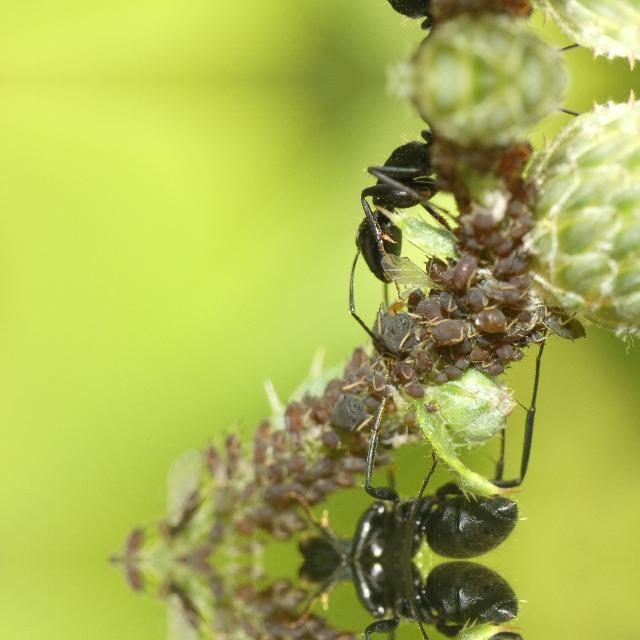Camponotus: (328, 96, 614, 296), (260, 408, 538, 560), (260, 560, 538, 640), (328, 0, 614, 64)
